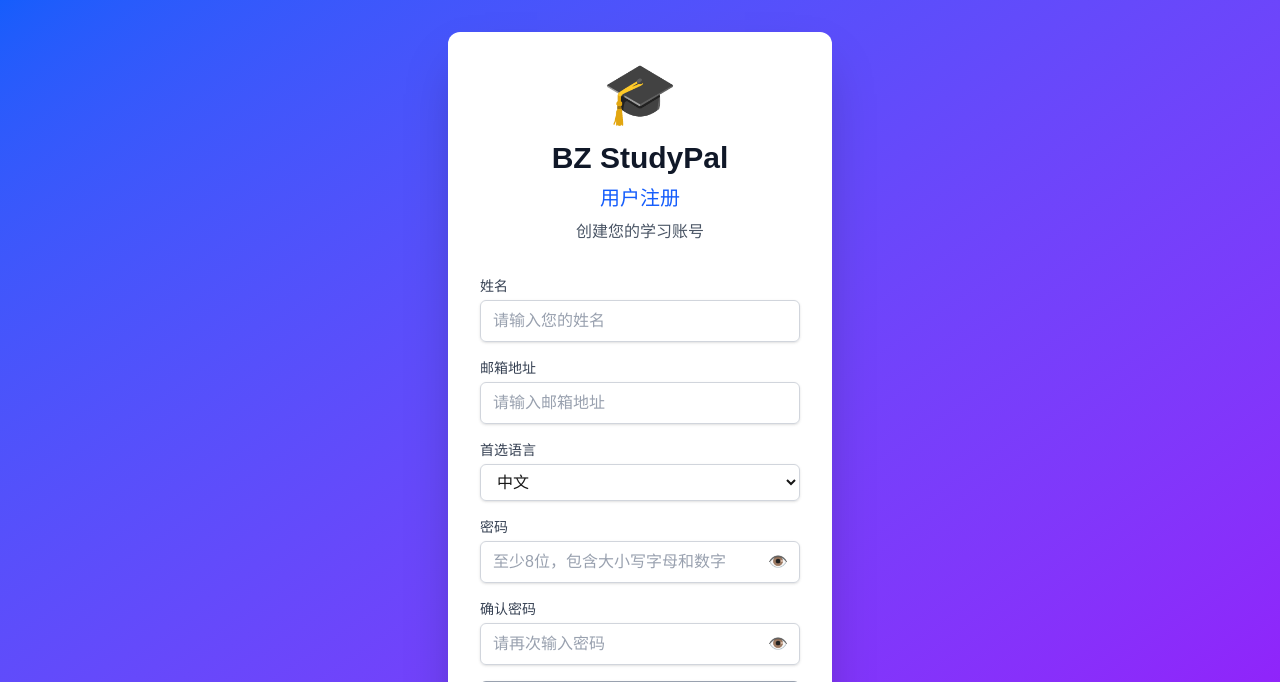
Test case: UI/UX Tests › Form Interactions › should provide visual feedback on registration page
# Test all form fields
Type "Test User" into the field named "name".
click(640, 321); type("Test User")  # box [480,300,800,342]
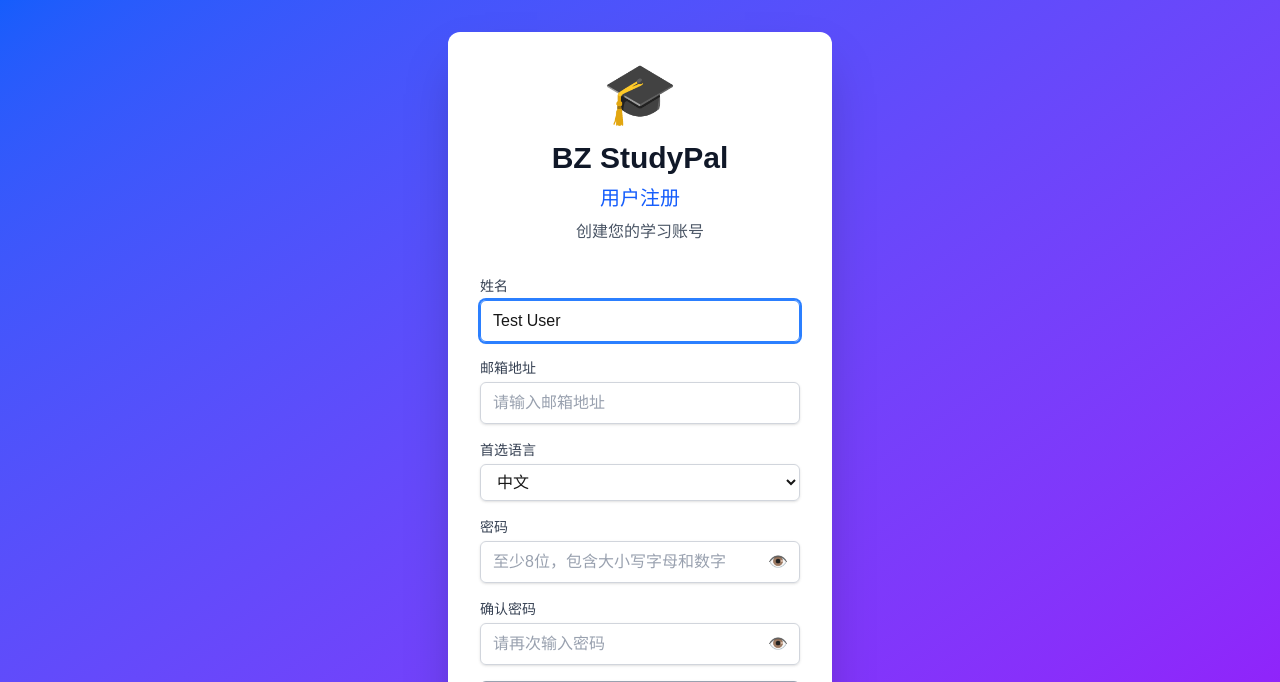
Type "test@example.com" into the field named "email".
click(640, 403); type("test@example.com")  # box [480,382,800,424]
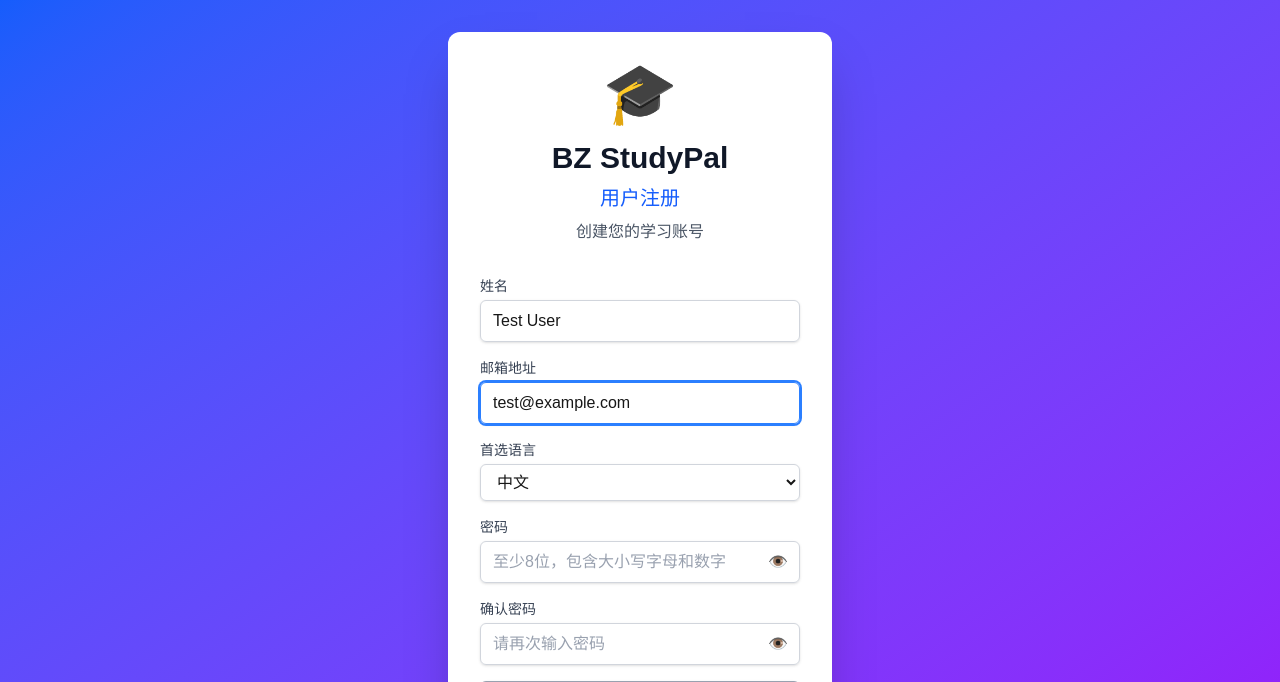
# Test select dropdown
Select "English" in the dropdown named "preferredLanguage" at {"x": 640, "y": 483}, box [480,464,800,501]
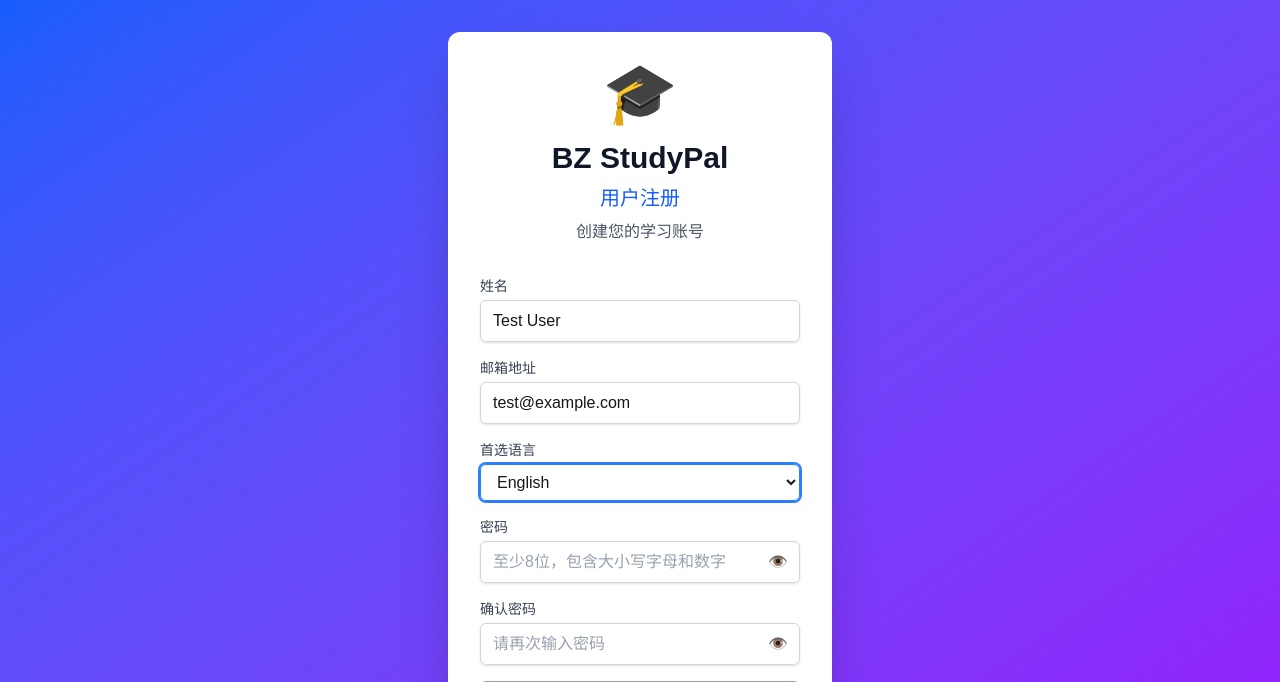
# Test password visibility toggle
Type "password123" into the password field named "password".
click(640, 562); type("password123")  # box [480,541,800,583]
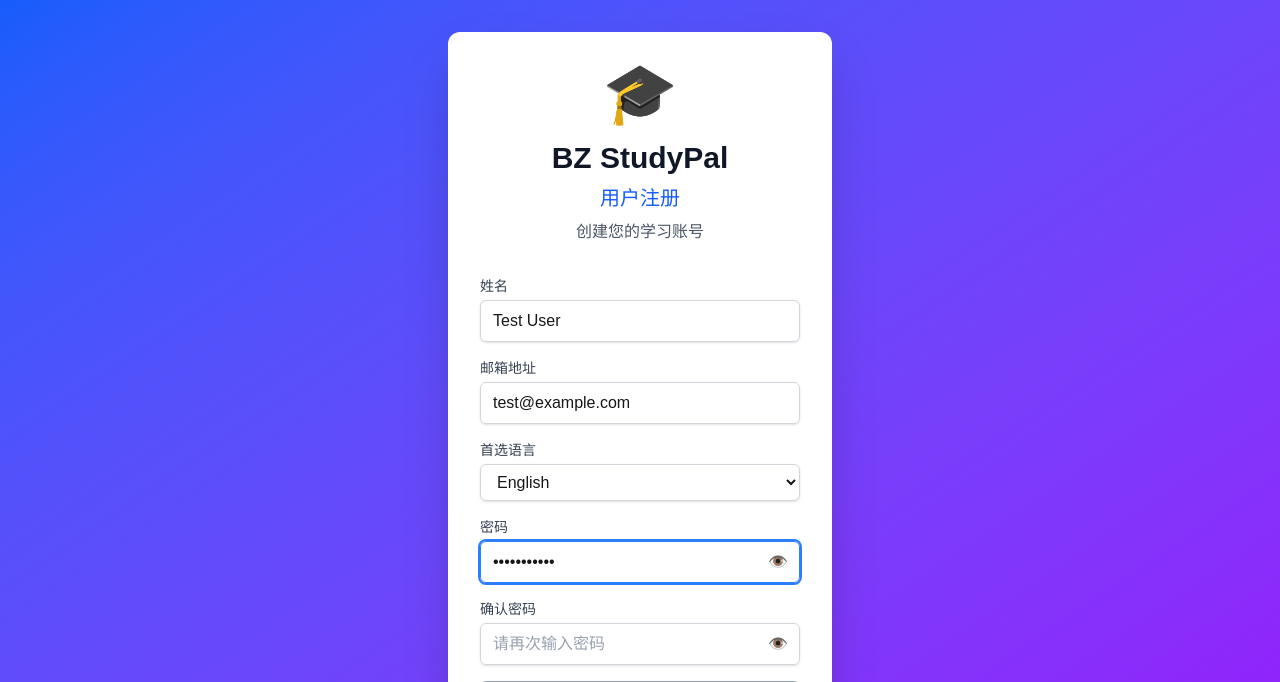
Click the 1st button "👁️".
click(784, 562)  # box [768,541,800,583]
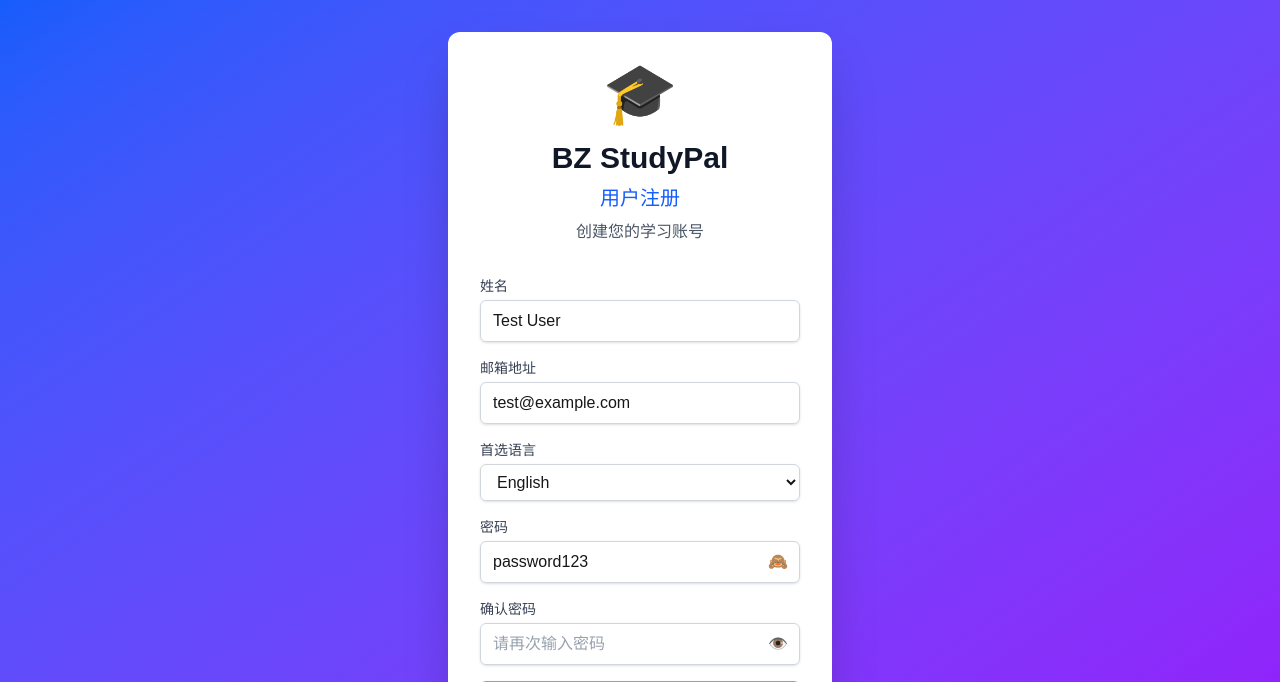
Now the field named "password" shows its text, box [480,541,800,583]
Click the button "🙈".
click(784, 562)  # box [768,541,800,583]
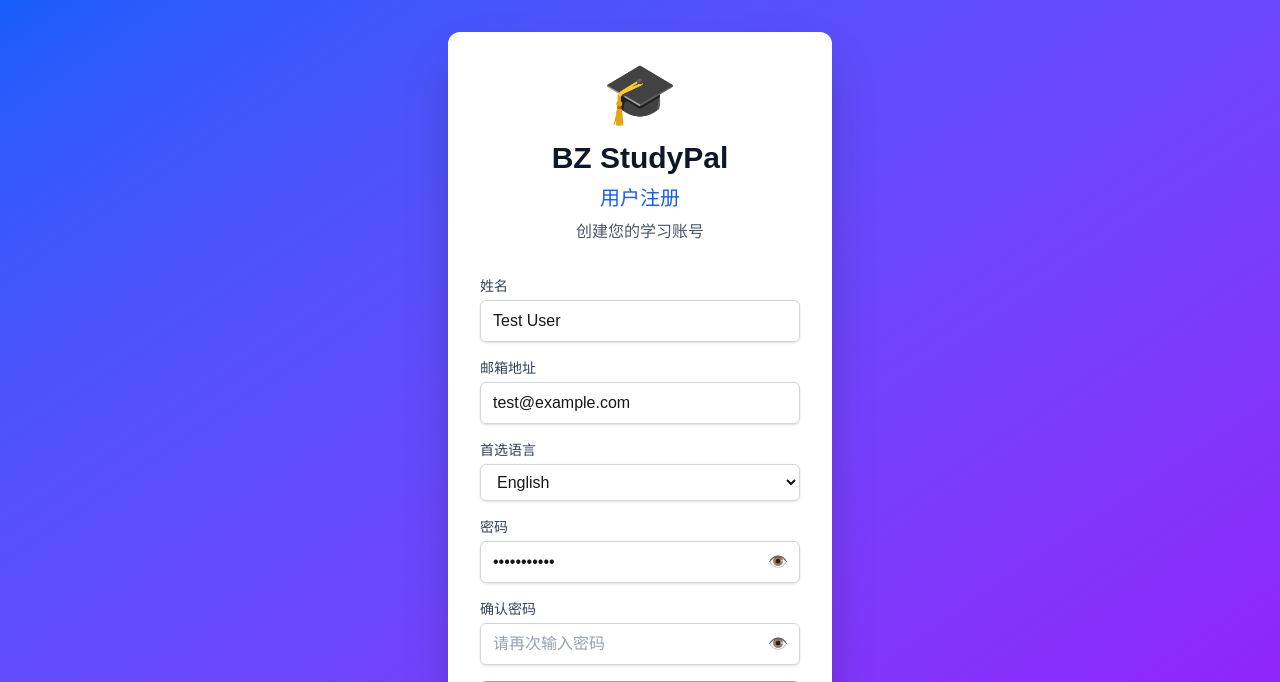
Now the password field named "password" hides its text, box [480,541,800,583]
